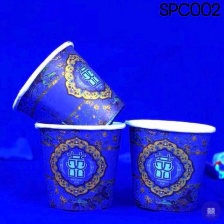paper_cup: (8, 35, 130, 140), (119, 114, 220, 216), (29, 116, 129, 216)
